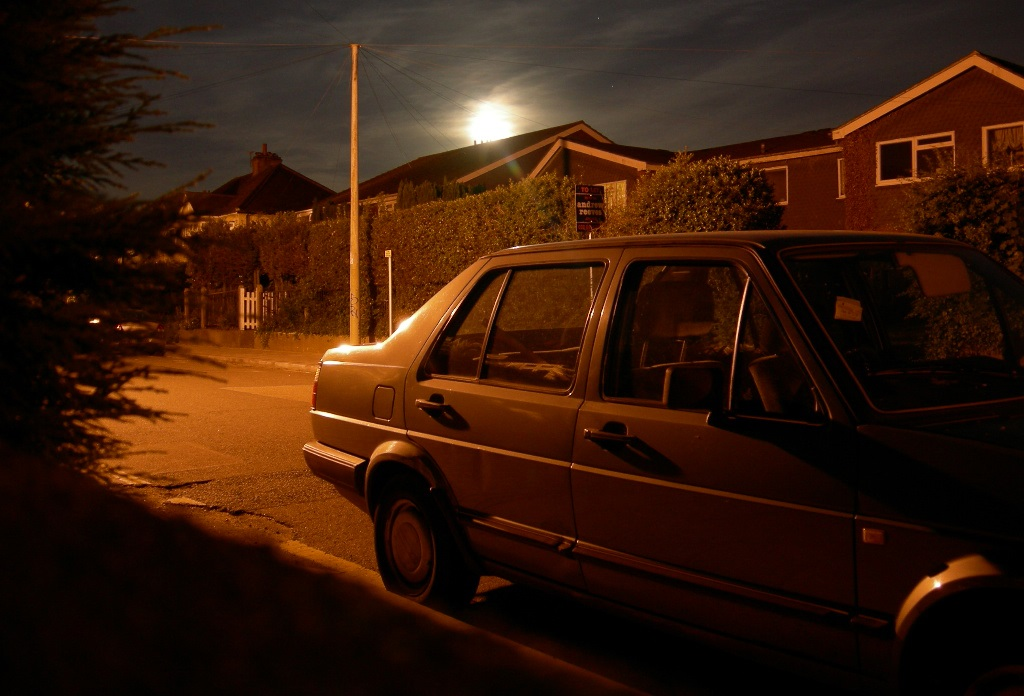car: (294, 221, 1017, 684)
